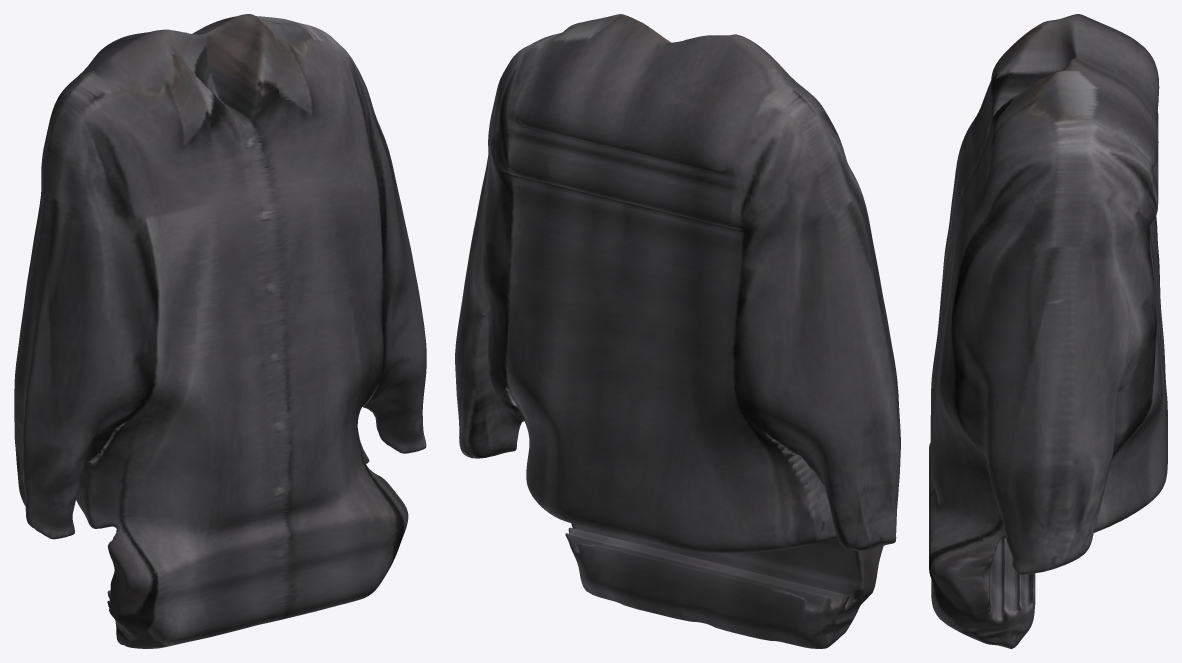
File: NF014-worn-v3.glb
3 views of the same model, side by side, from view 1: azimuth 30°, elevation 25°; view 2: azimuth 150°, elevation 25°; view 3: azimuth 270°, elevation 25° (orthographic). The views are drawn at different scales.
Parts seen in each view (by area): view 1: NF014_worn_photo_fitted; view 2: NF014_worn_photo_fitted; view 3: NF014_worn_photo_fitted.
Boxes of the visible parts, x1,y1,x2,y2 form: NF014_worn_photo_fitted: (14,14,426,648); NF014_worn_photo_fitted: (455,14,900,648); NF014_worn_photo_fitted: (929,14,1167,648).
Size of the model in its own units: 0.5622 by 0.7745 by 0.2993.
1 material, 1 textured.
